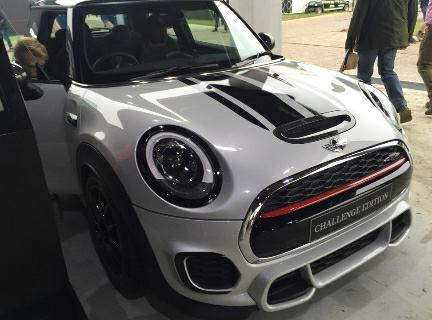MINI-JCW: (30, 9, 416, 312)
